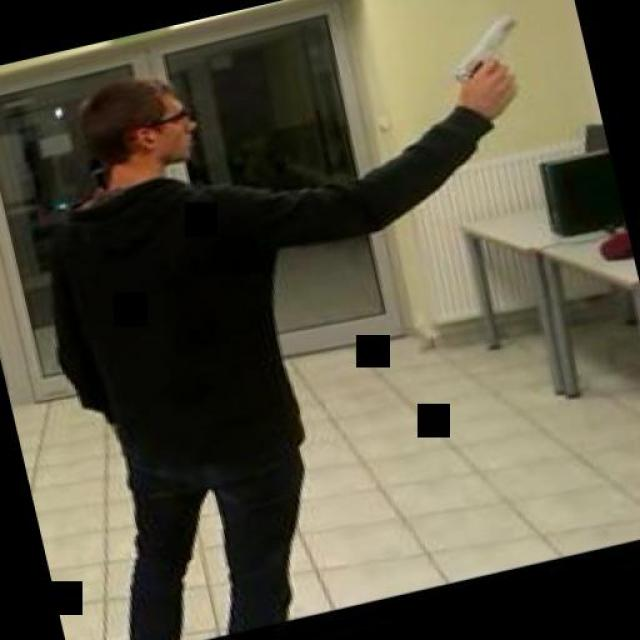gun: (436, 12, 530, 108)
